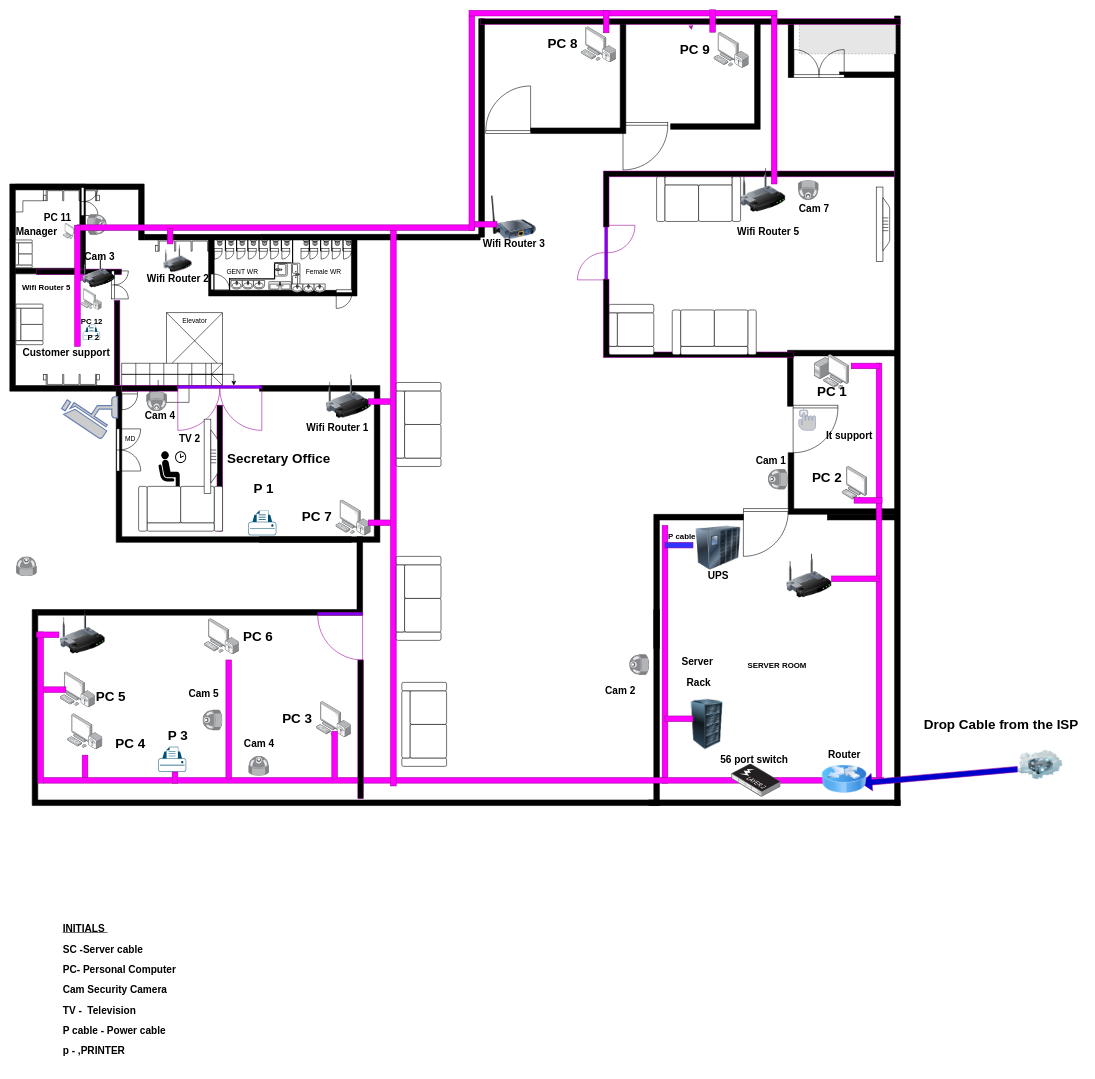
Some shapes in this 1095 by 1079 pixel diagram are drawn without their labels. Grey dashed boxes stand in for pictures. The box of each missing label's shape, as (x1, y1, x2, y2) in pixels:
SC: (665, 699, 749, 749)
Stairs: (121, 363, 223, 386)
